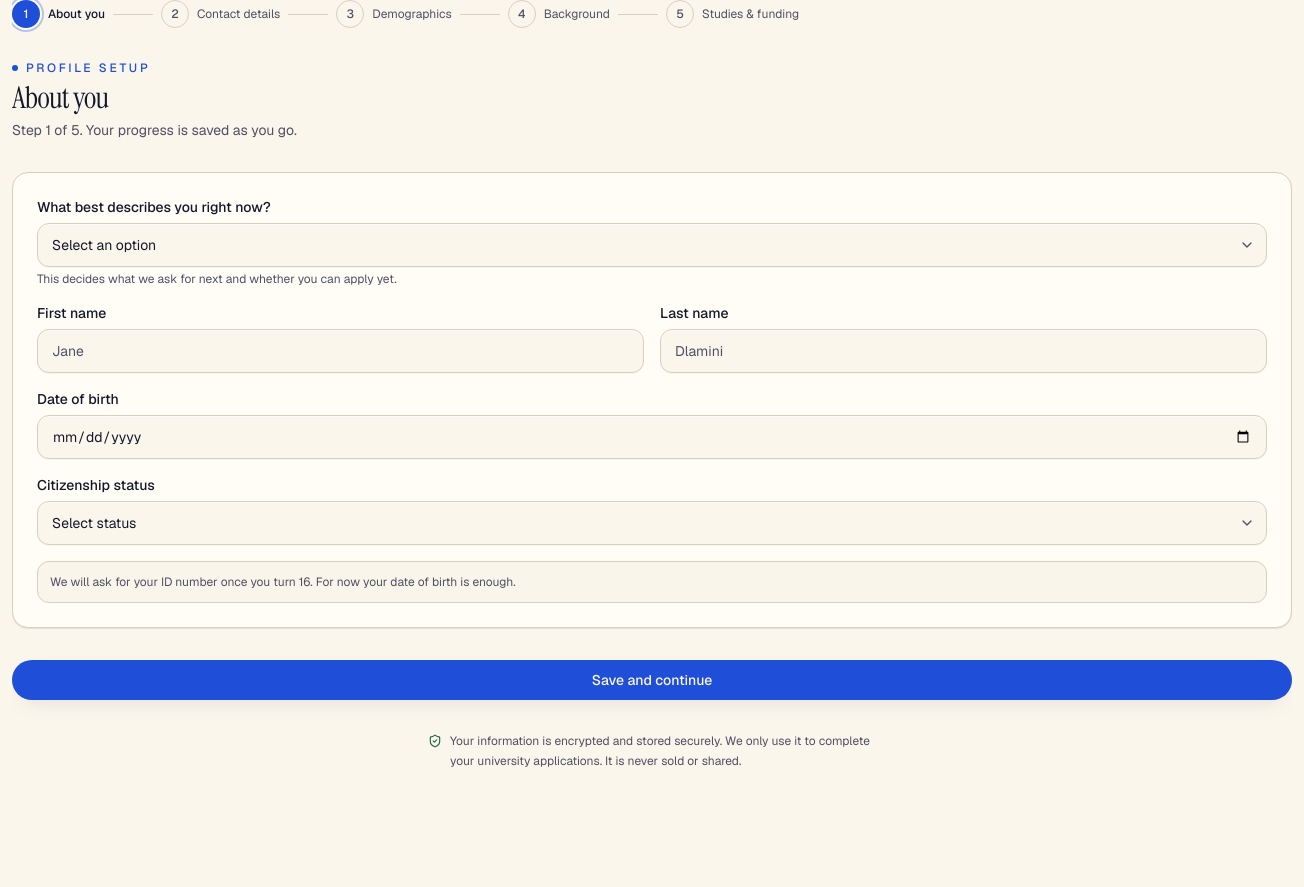
ProfileSetupForm — Step 1 conditional rendering › swaps the SA ID for passport + permit on a non-SA citizenship
The width and height of the screenshot is (1304, 887).
Select "Currently in Grade 12" in the dropdown labelled "What best describes you right now?" at (652, 245), box [37,223,1267,267]
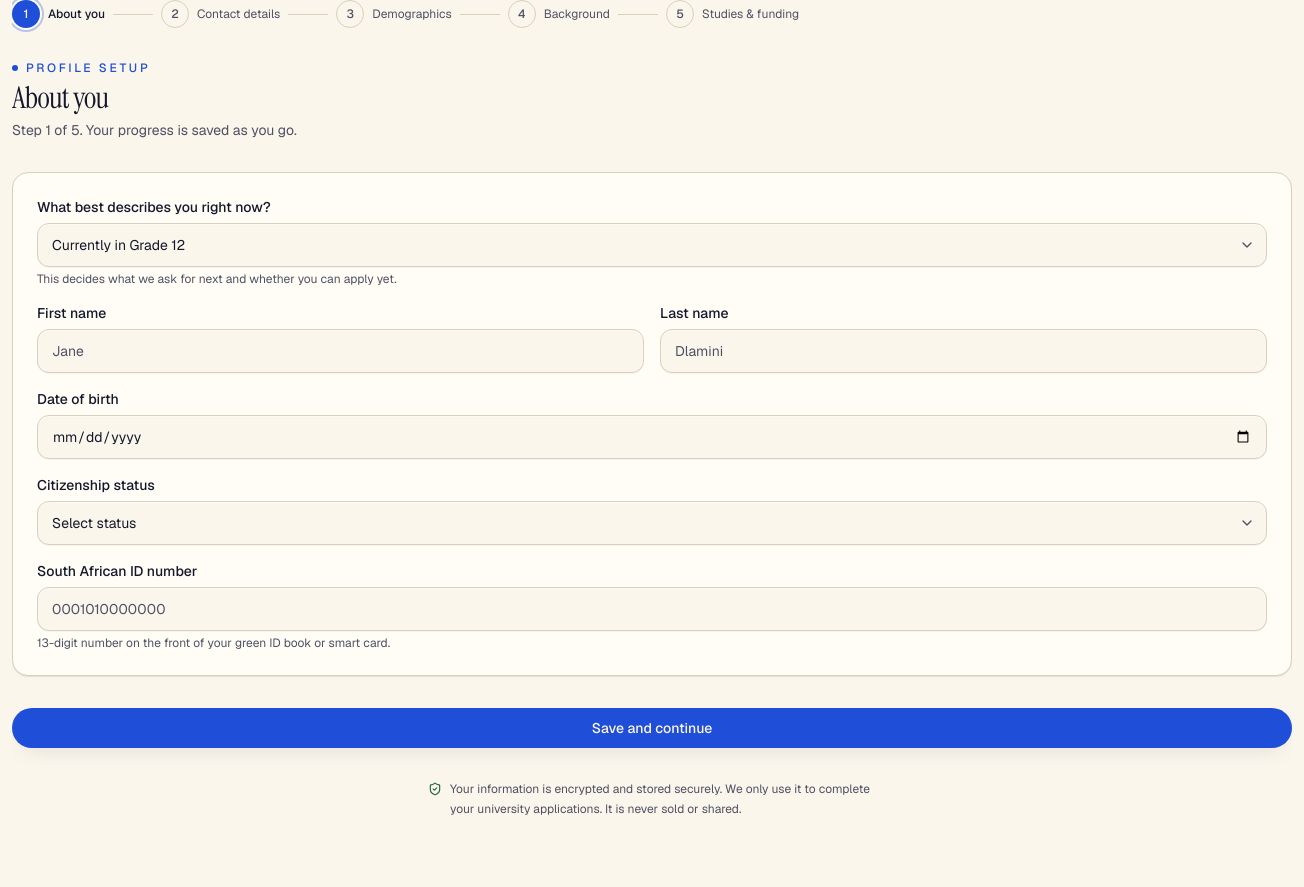
Select "South African citizen" in the dropdown labelled "Citizenship status" at (652, 523), box [37,501,1267,545]
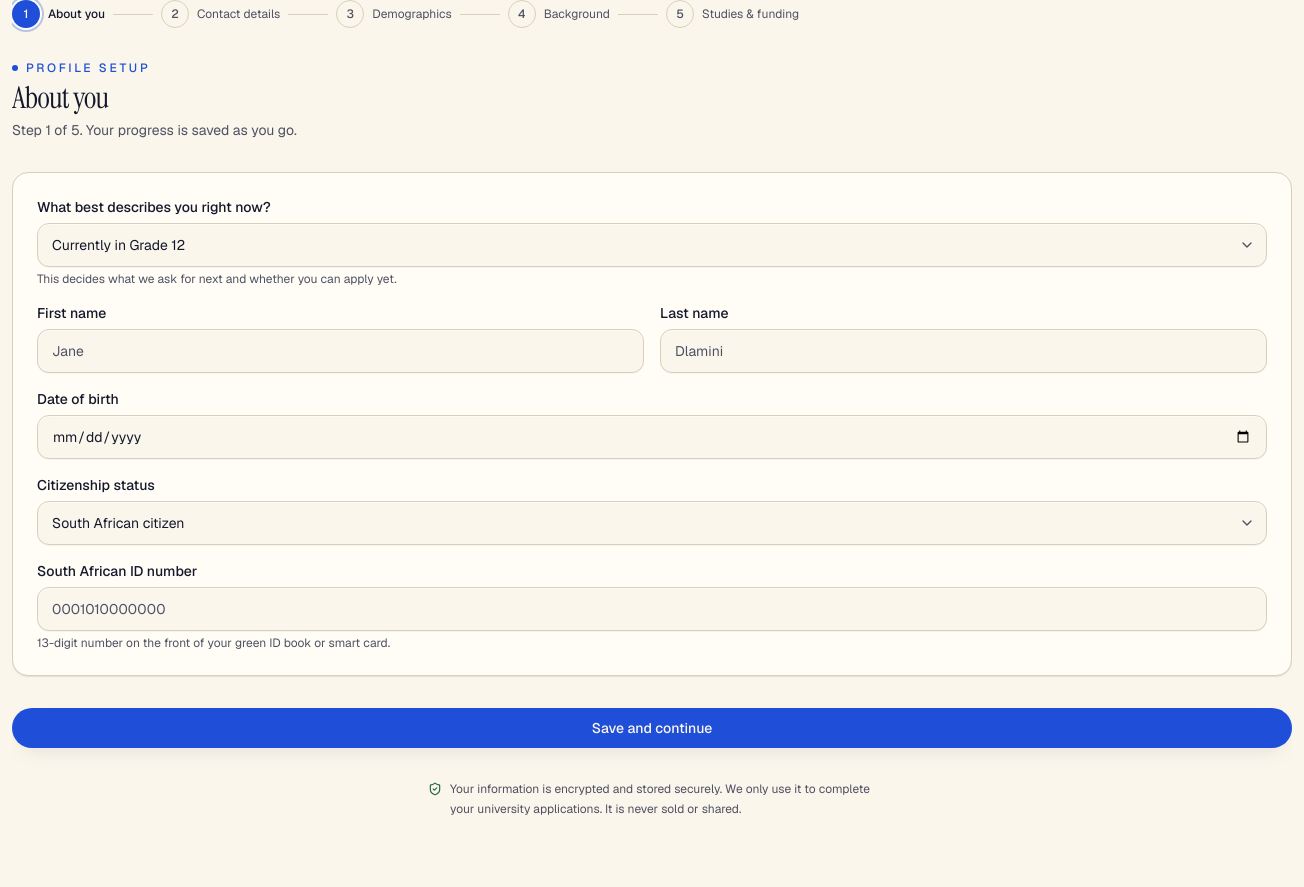
expect the field labelled "Passport number" is not shown: met
expect the field labelled "South African ID number" is shown: met, box [37,587,1267,631]
Select "International (non-SA citizen)" in the dropdown labelled "Citizenship status" at (652, 523), box [37,501,1267,545]
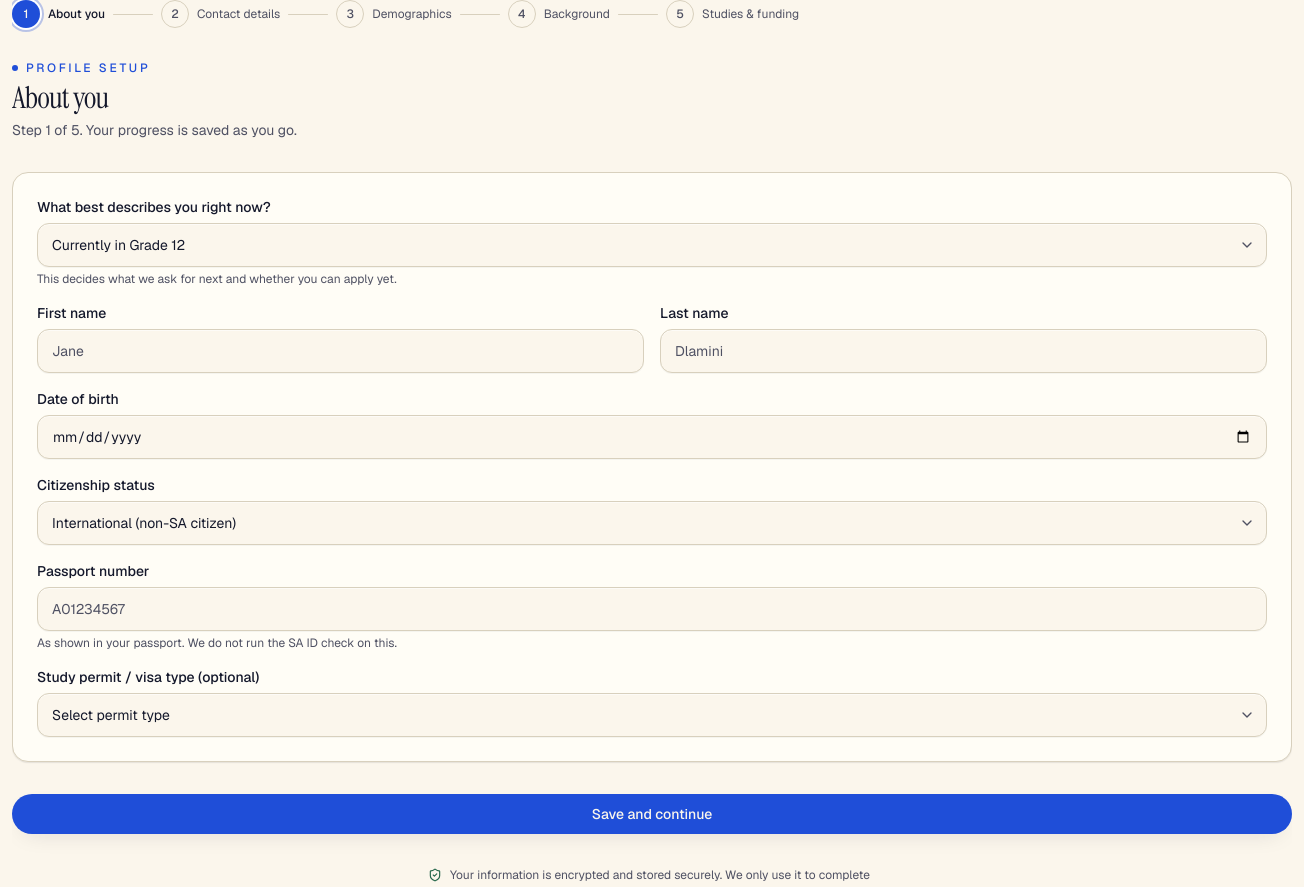
expect the field labelled "Passport number" is shown: met, box [37,587,1267,631]
expect the dropdown labelled "Study permit / visa type (optional)" is shown: met, box [37,693,1267,737]
expect the label labelled "South African ID number" is gone: met
